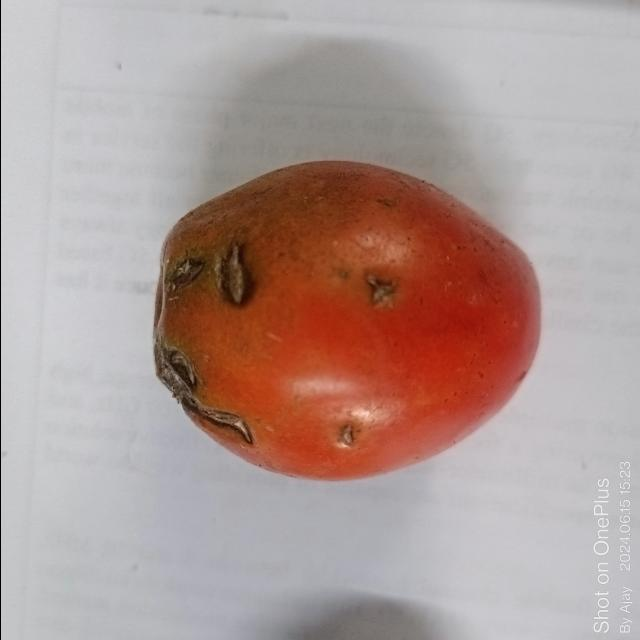tomato_cracking: (152, 319, 261, 445), (213, 231, 254, 316)
